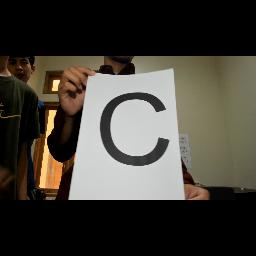c: (96, 90, 174, 170)
